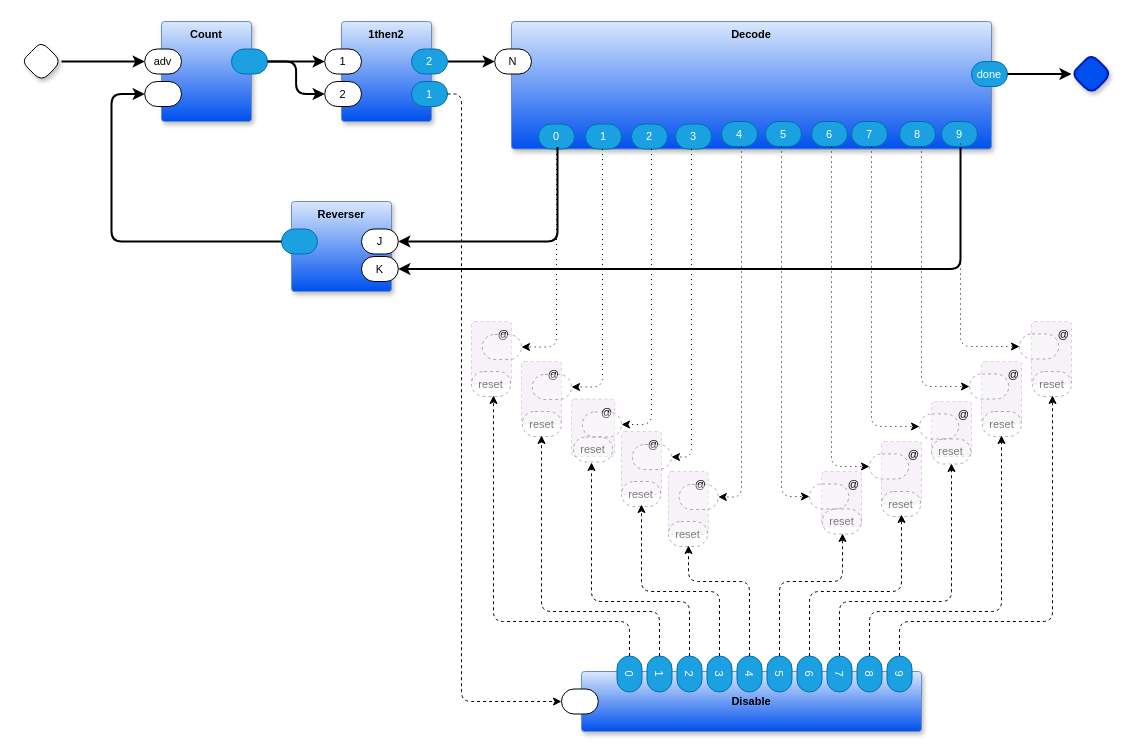
Image size: 1136x756. Some labels were removed from this diagram. Each missing label, with the centre of its shape:
rev: the point at 163,93
tick: the point at 42,62
